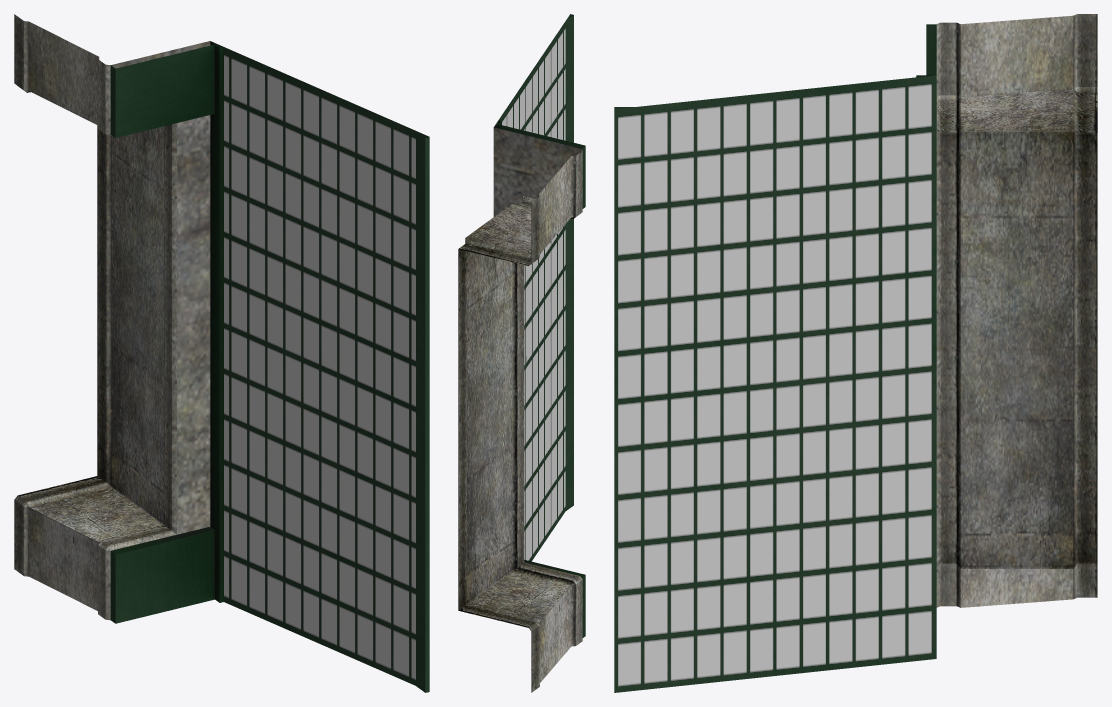
File: tdr_t_test.obj
The picture shows the model from 3 angles, left to right: view 1: azimuth 30°, elevation 25°; view 2: azimuth 150°, elevation 25°; view 3: azimuth 270°, elevation 25°; orthographic projection. The views are drawn at different scales.
Visible parts, largest first — view 1: Cube.002_Cube.011, Cube.001_Cube.002, Cube_Cube.006; view 2: Cube.001_Cube.002, Cube.002_Cube.011, Cube_Cube.006; view 3: Cube.002_Cube.011, Cube.001_Cube.002.
Part boxes in pixels (x1,y1,x2,y2): Cube.002_Cube.011: (211, 41, 429, 685); Cube.001_Cube.002: (14, 14, 210, 620); Cube_Cube.006: (110, 41, 429, 692); Cube.001_Cube.002: (458, 127, 582, 692); Cube.002_Cube.011: (494, 14, 570, 561); Cube_Cube.006: (494, 14, 585, 637); Cube.002_Cube.011: (614, 75, 936, 692); Cube.001_Cube.002: (936, 14, 1097, 607).
Bounding box in the file's own units: 717 × 2048 × 1536.
Materials: 3 (3 with a texture image).
